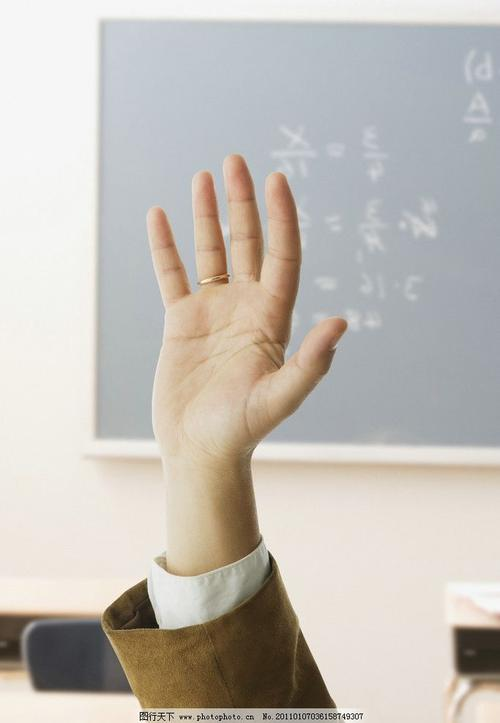no-phone: (140, 150, 351, 457)
